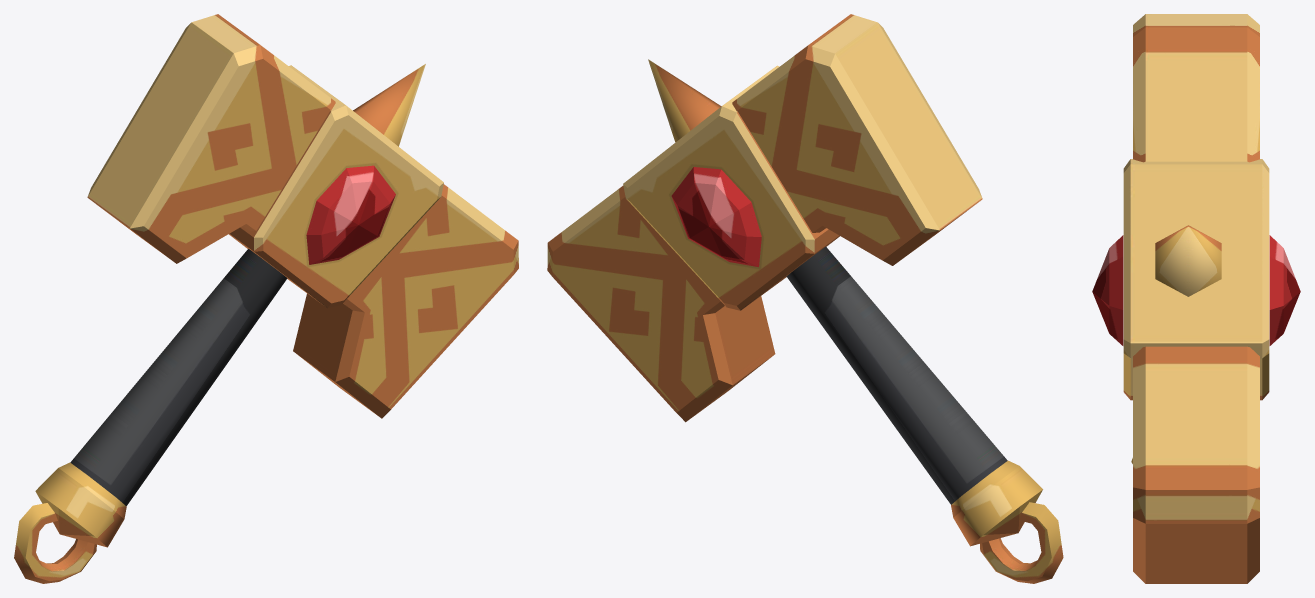
File: Crazy_04.FBX
3 renders of one model, left to right at view 1: azimuth 30°, elevation 25°; view 2: azimuth 150°, elevation 25°; view 3: azimuth 270°, elevation 25°, orthographic. The views are drawn at different scales.
Visible parts, largest first — view 1: Crazy_04; view 2: Crazy_04; view 3: Crazy_04.
Boxes of the visible parts, box(x1,y1,x2,y2) form: Crazy_04: box(14, 14, 518, 583); Crazy_04: box(547, 14, 1063, 583); Crazy_04: box(1092, 14, 1300, 583).
Bounding box in the file's own units: 65.8 × 65.21 × 20.29.
